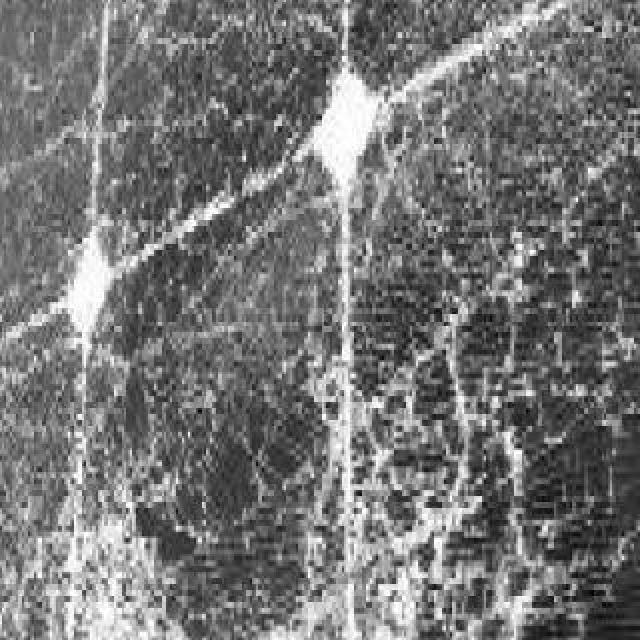Physical-damage: (0, 47, 638, 640)
